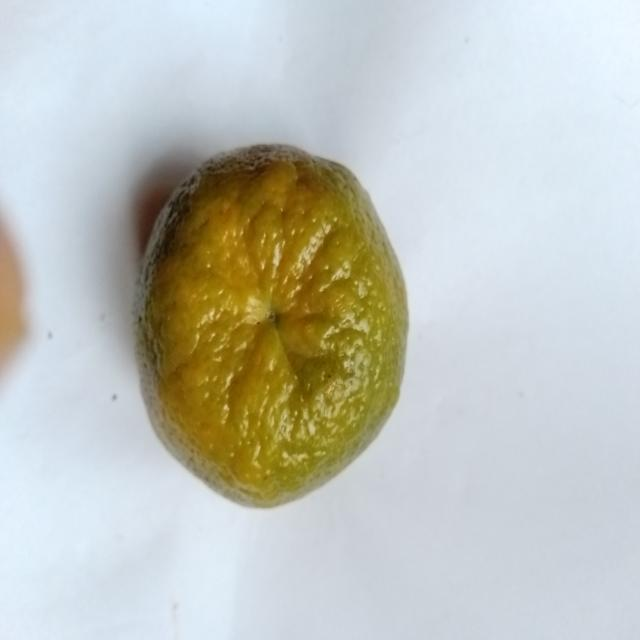orange: (136, 145, 408, 506)
